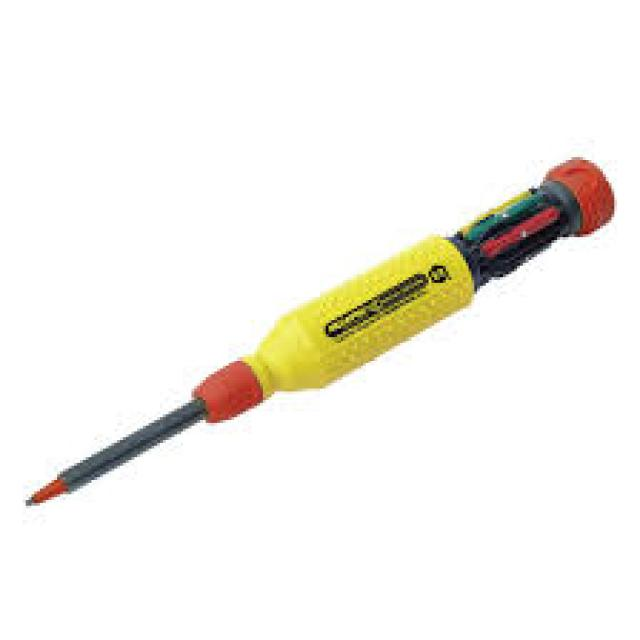Screwdriver: (26, 160, 617, 504)
